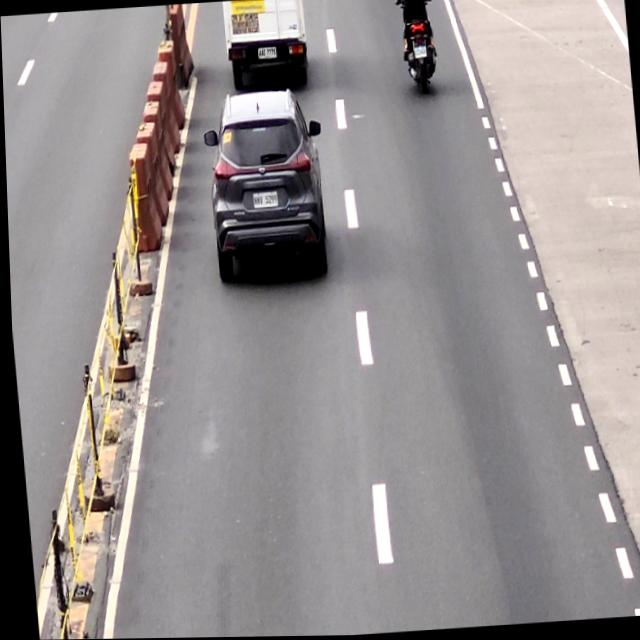Car: (200, 87, 332, 286), (221, 0, 311, 96)
License-Plate: (251, 191, 277, 210), (256, 47, 277, 61), (413, 46, 427, 61)
Motorcycle: (397, 0, 440, 96)
